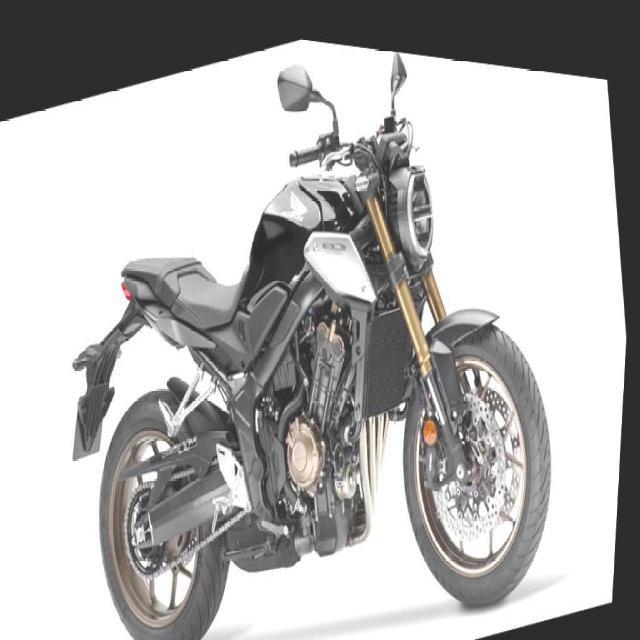CB650R: (26, 5, 590, 639)
